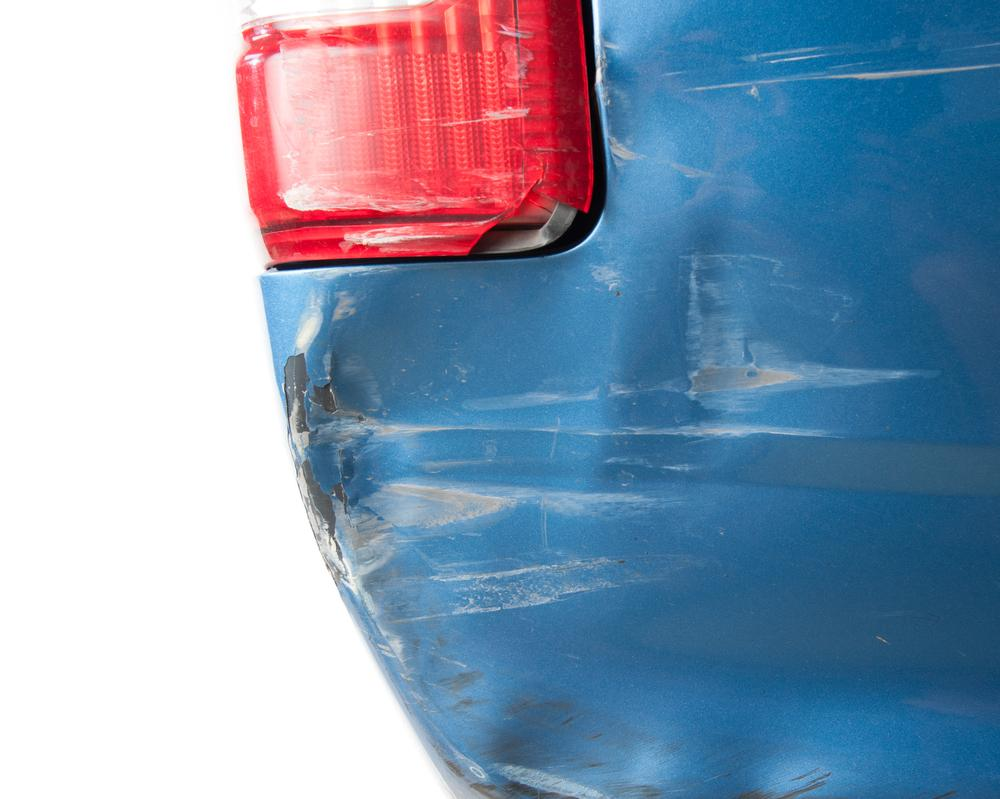dent: (281, 23, 837, 799)
lamp broken: (234, 0, 598, 265)
